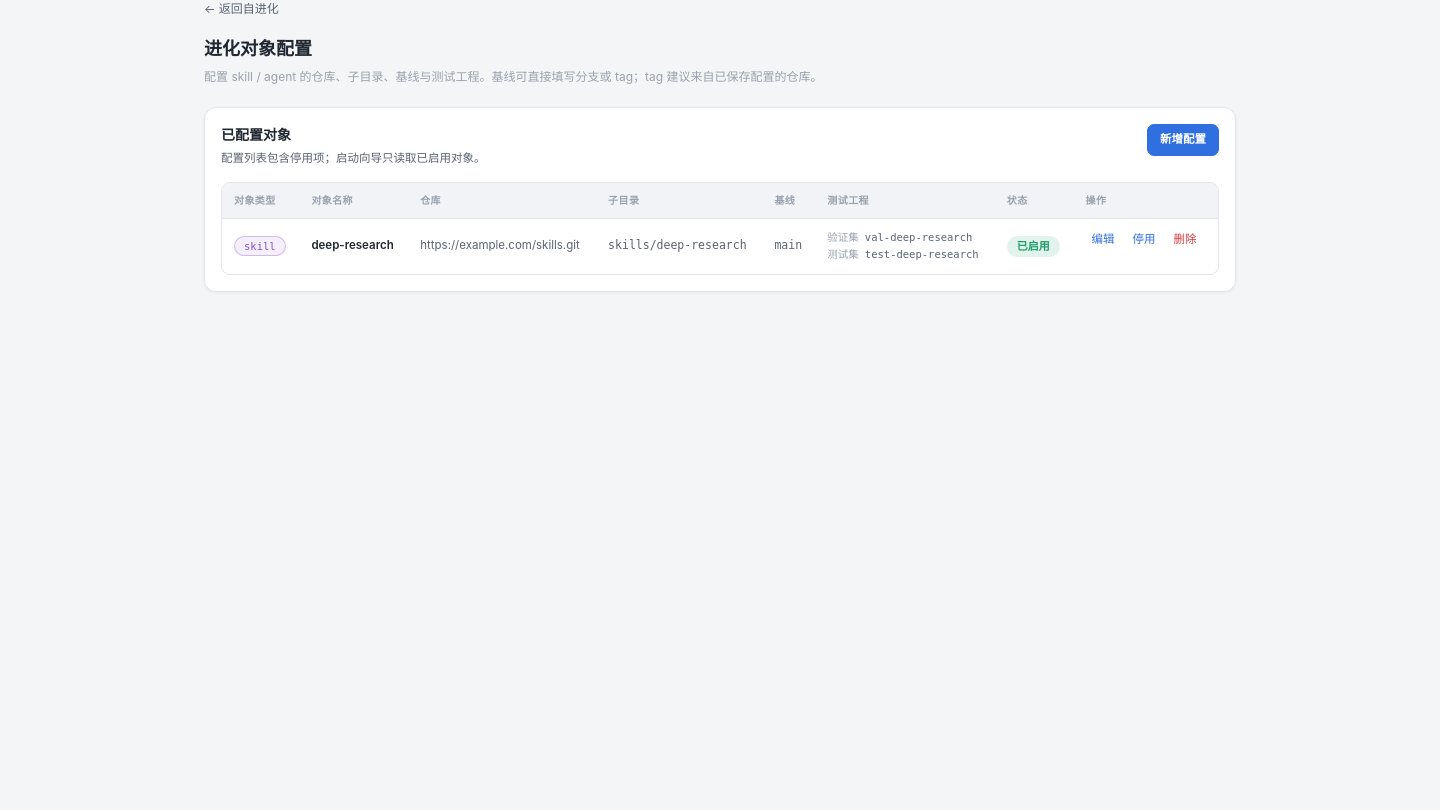
Test: target configuration page › loads target versions for edit mode
The image size is (1440, 810).
Click the button with class "edit-target" at (1103, 240), box left=1086, top=229, right=1121, bottom=251
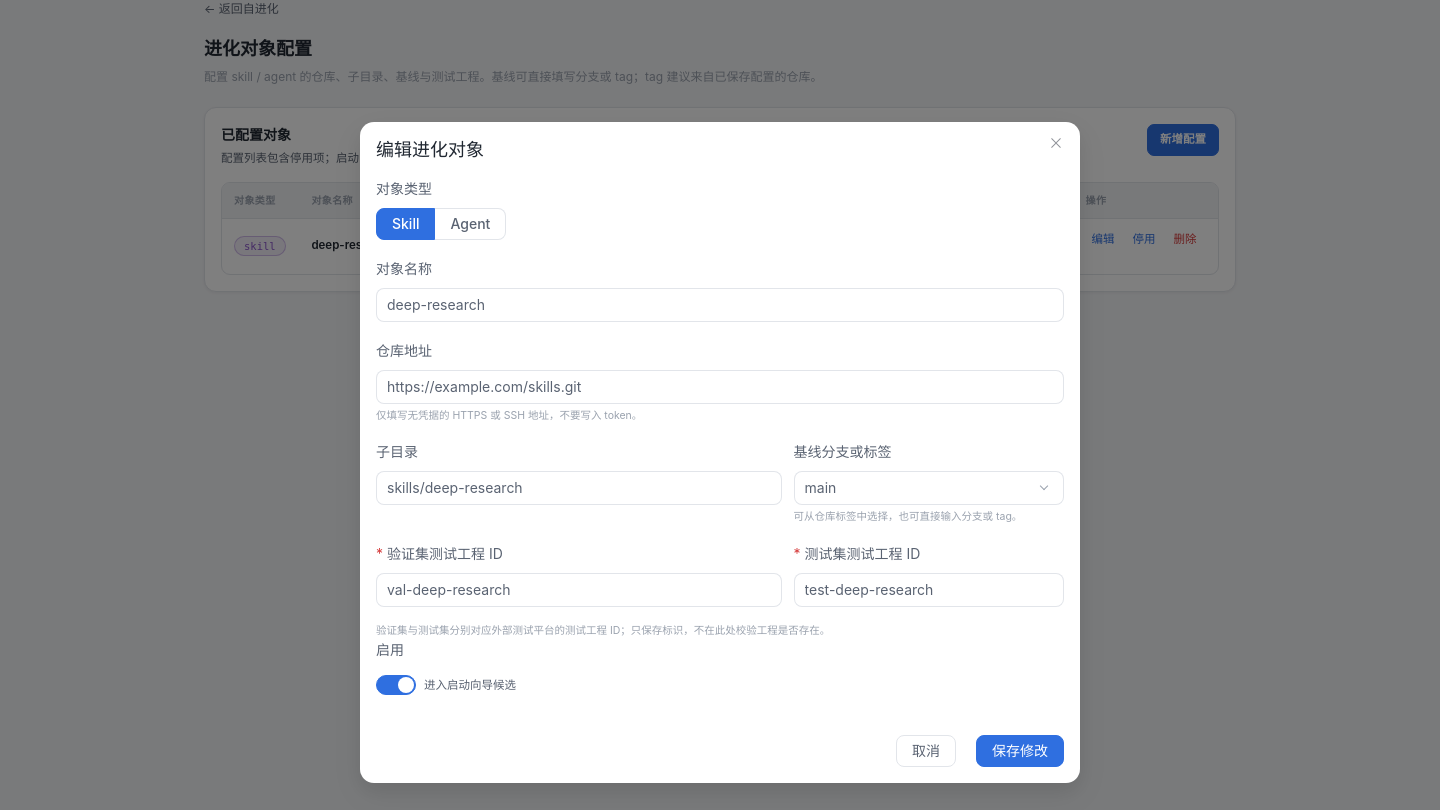
Expected: the field named "defaultRef" holds "main", left=805, top=473, right=1027, bottom=503
